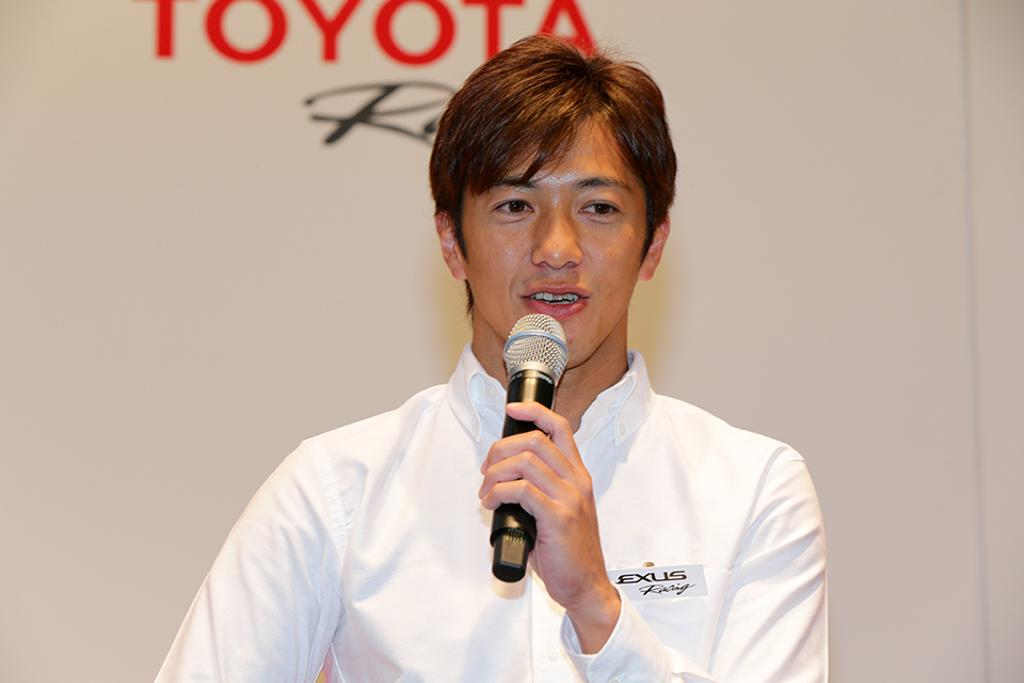face: (468, 130, 632, 370)
